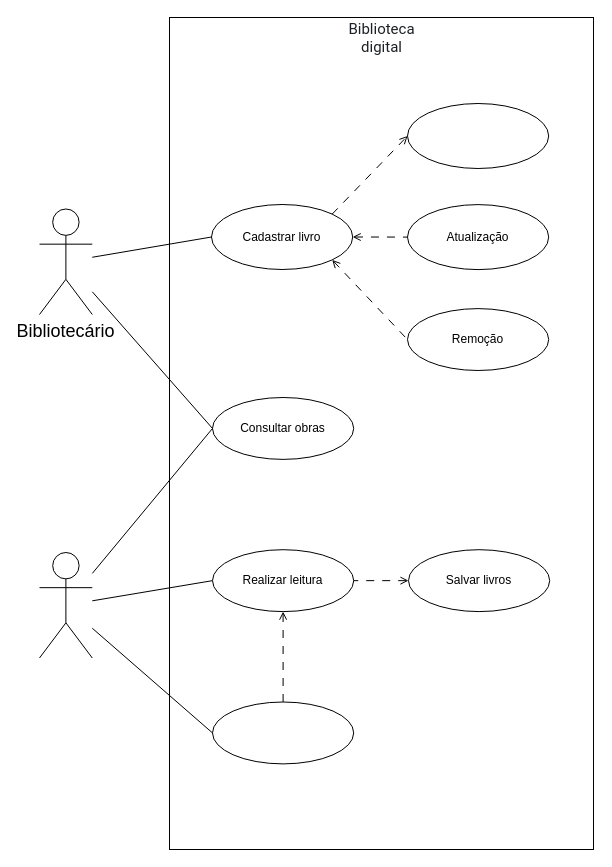
Image size: 612x867. Some labels were removed from this diagram. Each missing label, with the centre of its shape:
Adicionar comentários: the point at 283,732
Digitalização: the point at 477,135
Leitor: the point at 65,605
